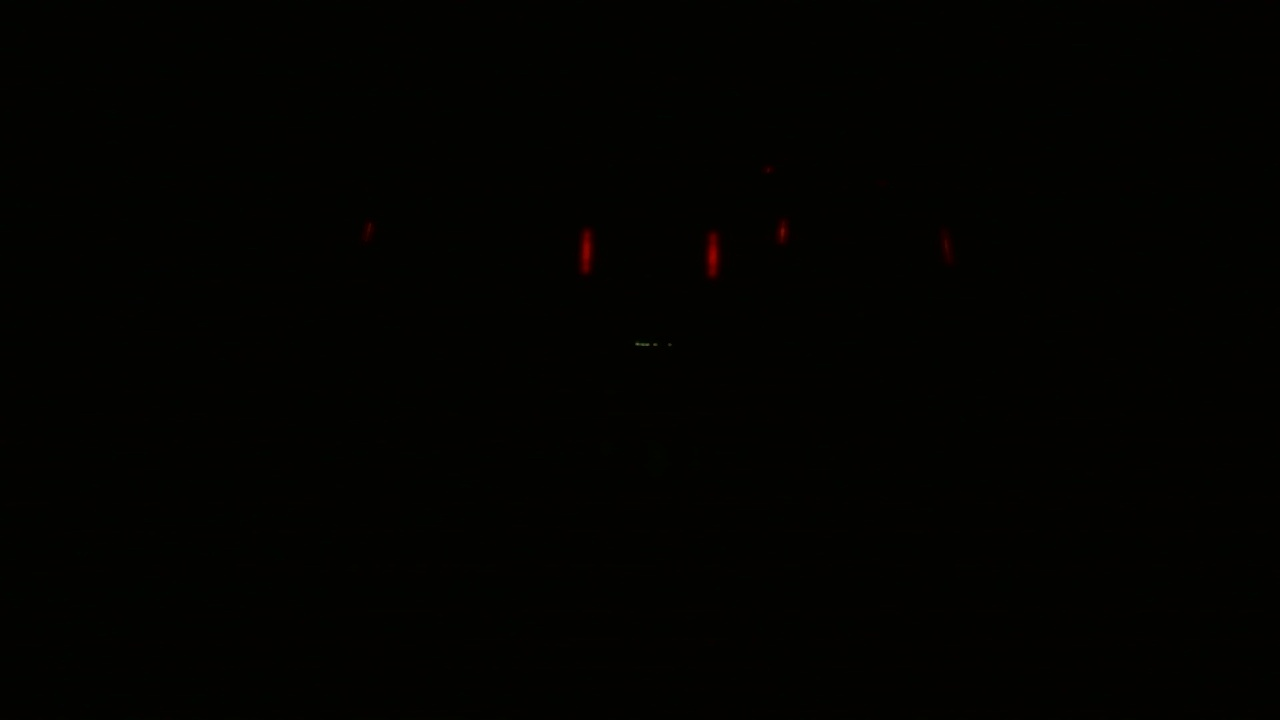pair1: (577, 226, 722, 280)
